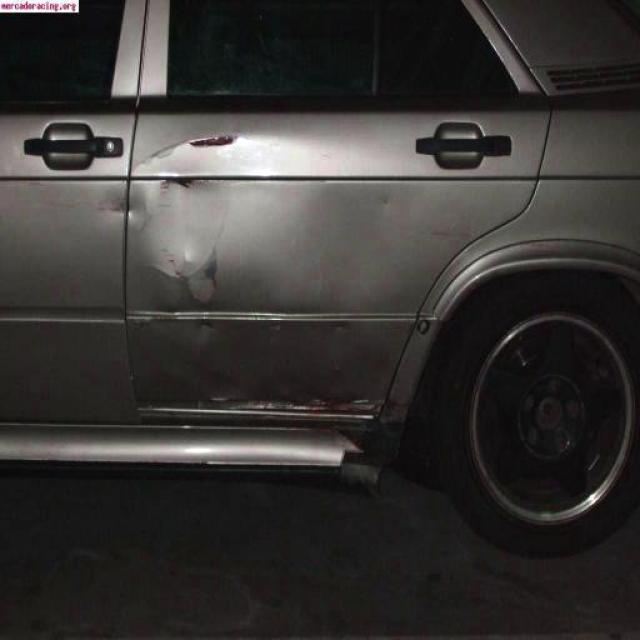car damage: (311, 177, 432, 294), (196, 391, 414, 414), (146, 245, 222, 304), (101, 172, 141, 215), (141, 144, 180, 165), (188, 135, 237, 149), (159, 171, 201, 187), (133, 321, 151, 330), (198, 321, 216, 329), (271, 321, 284, 330), (332, 322, 348, 329)
